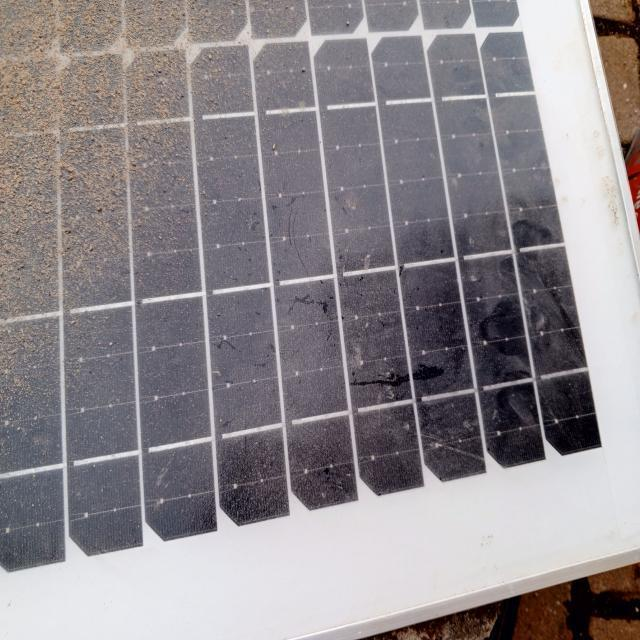Anomaly Solar Panel: (3, 0, 596, 574)
Surface Contaminant: (5, 1, 406, 553)
